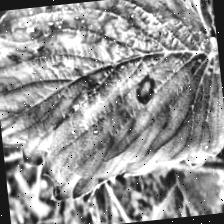Leaf Spot: (0, 0, 224, 207)
